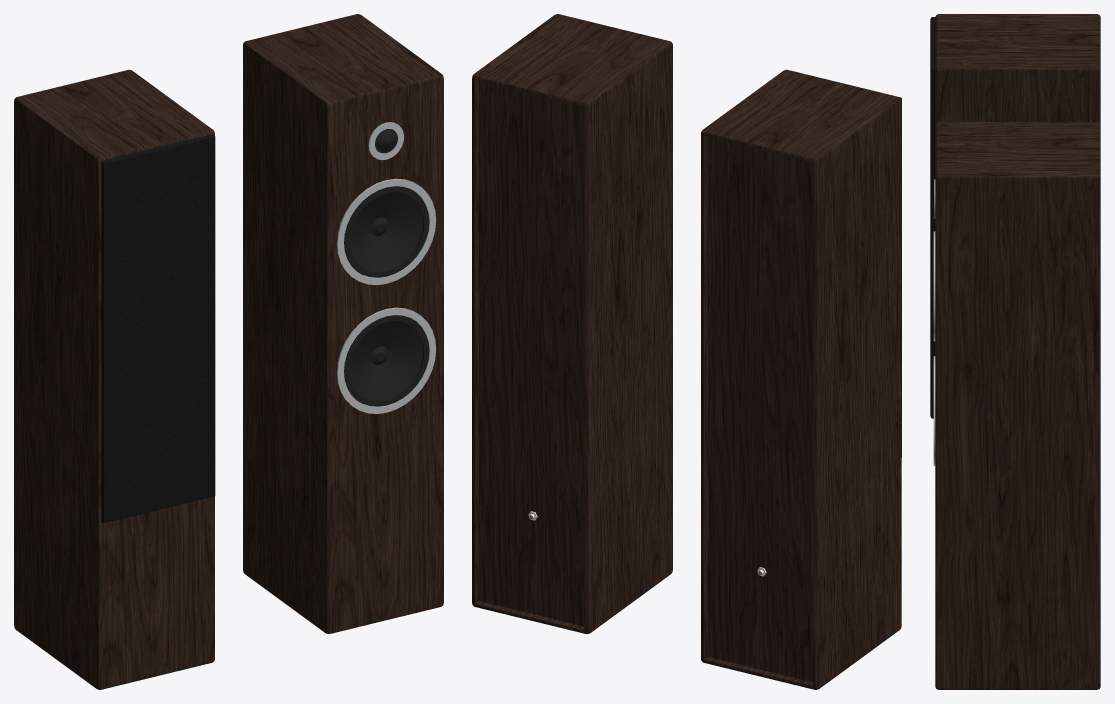
3 renders of one model, left to right at view 1: azimuth 30°, elevation 25°; view 2: azimuth 150°, elevation 25°; view 3: azimuth 270°, elevation 25°, orthographic. The views are drawn at different scales.
Visible parts, largest first — view 1: g (×2); view 2: g (×2); view 3: g (×2).
Boxes of the visible parts, x1=… form: g (×2): x1=14, y1=14, x2=443, y2=689; g (×2): x1=472, y1=14, x2=901, y2=689; g (×2): x1=930, y1=14, x2=1100, y2=689.
Size of the model in its own units: 1.36 by 2 by 0.599.
Materials: 2 (2 with a texture image).
